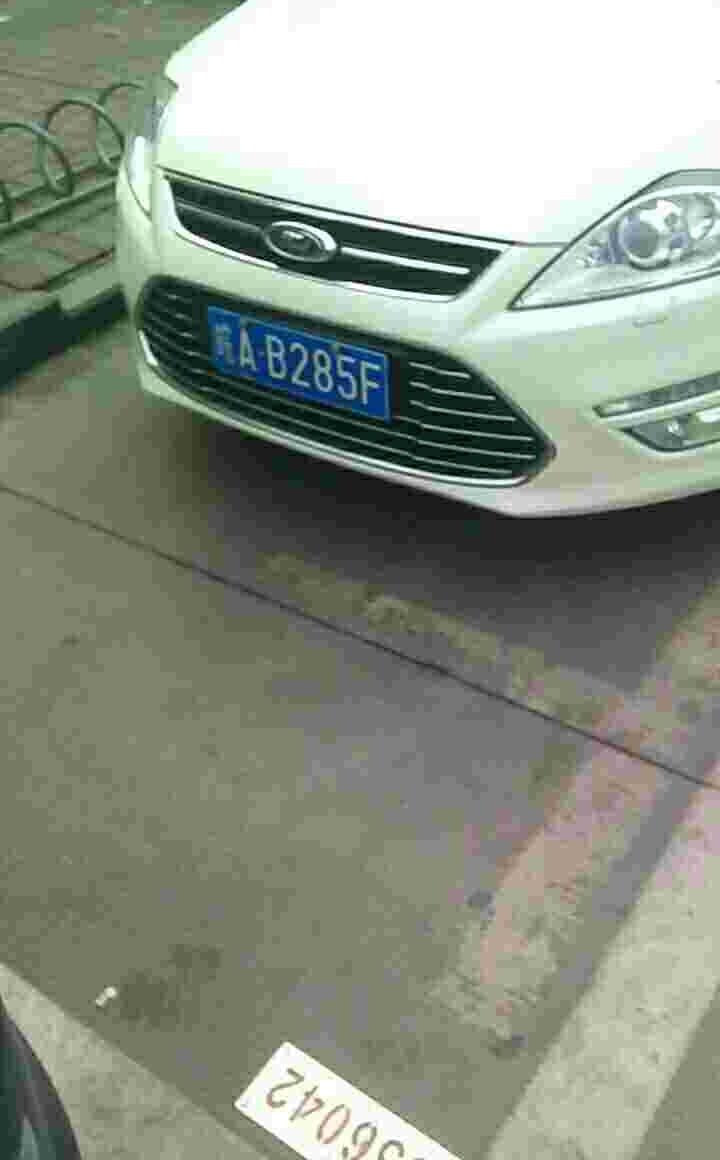license_plate: (210, 314, 402, 410)
